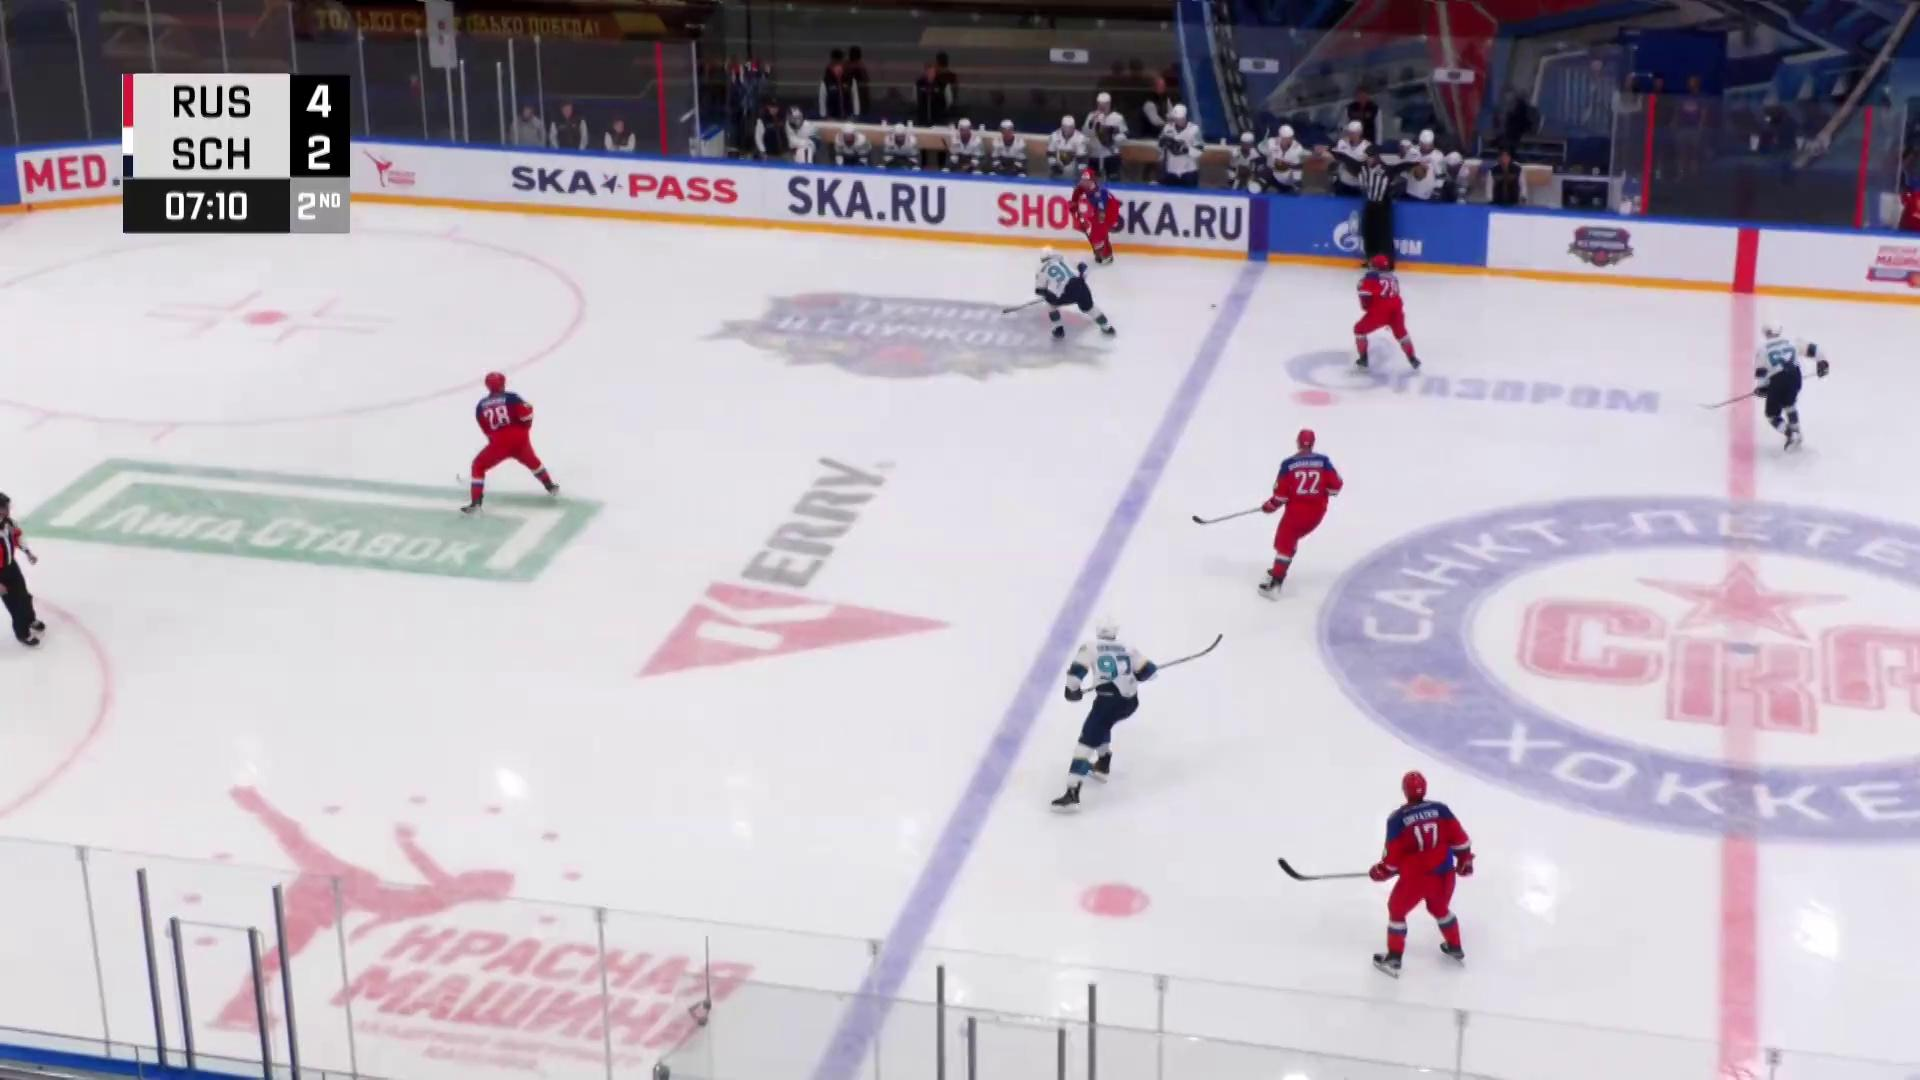ball: (1209, 303, 1217, 309)
